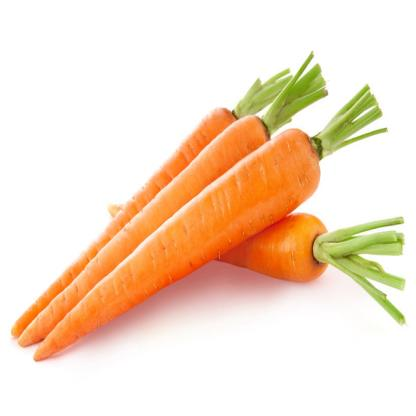--: (12, 76, 391, 370)
